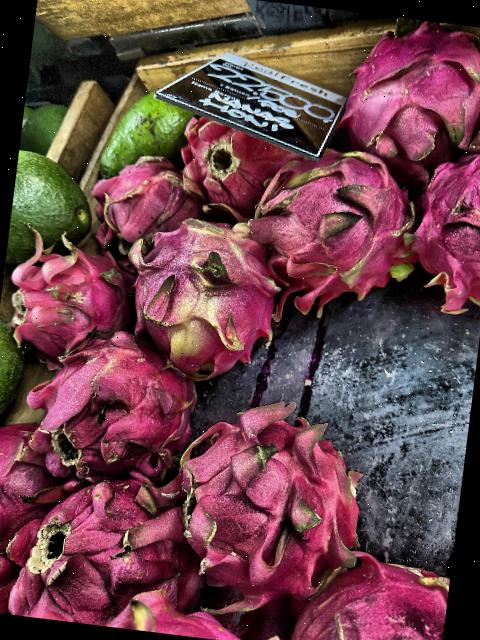buah-naga-belum-matang: (114, 210, 292, 379)
buah-naga-matang: (162, 394, 372, 612), (0, 469, 210, 636), (240, 147, 432, 319), (15, 315, 208, 475), (332, 12, 480, 170), (0, 218, 139, 357), (296, 548, 451, 640), (170, 104, 300, 210), (402, 134, 480, 308), (83, 143, 202, 243), (0, 419, 69, 566)
